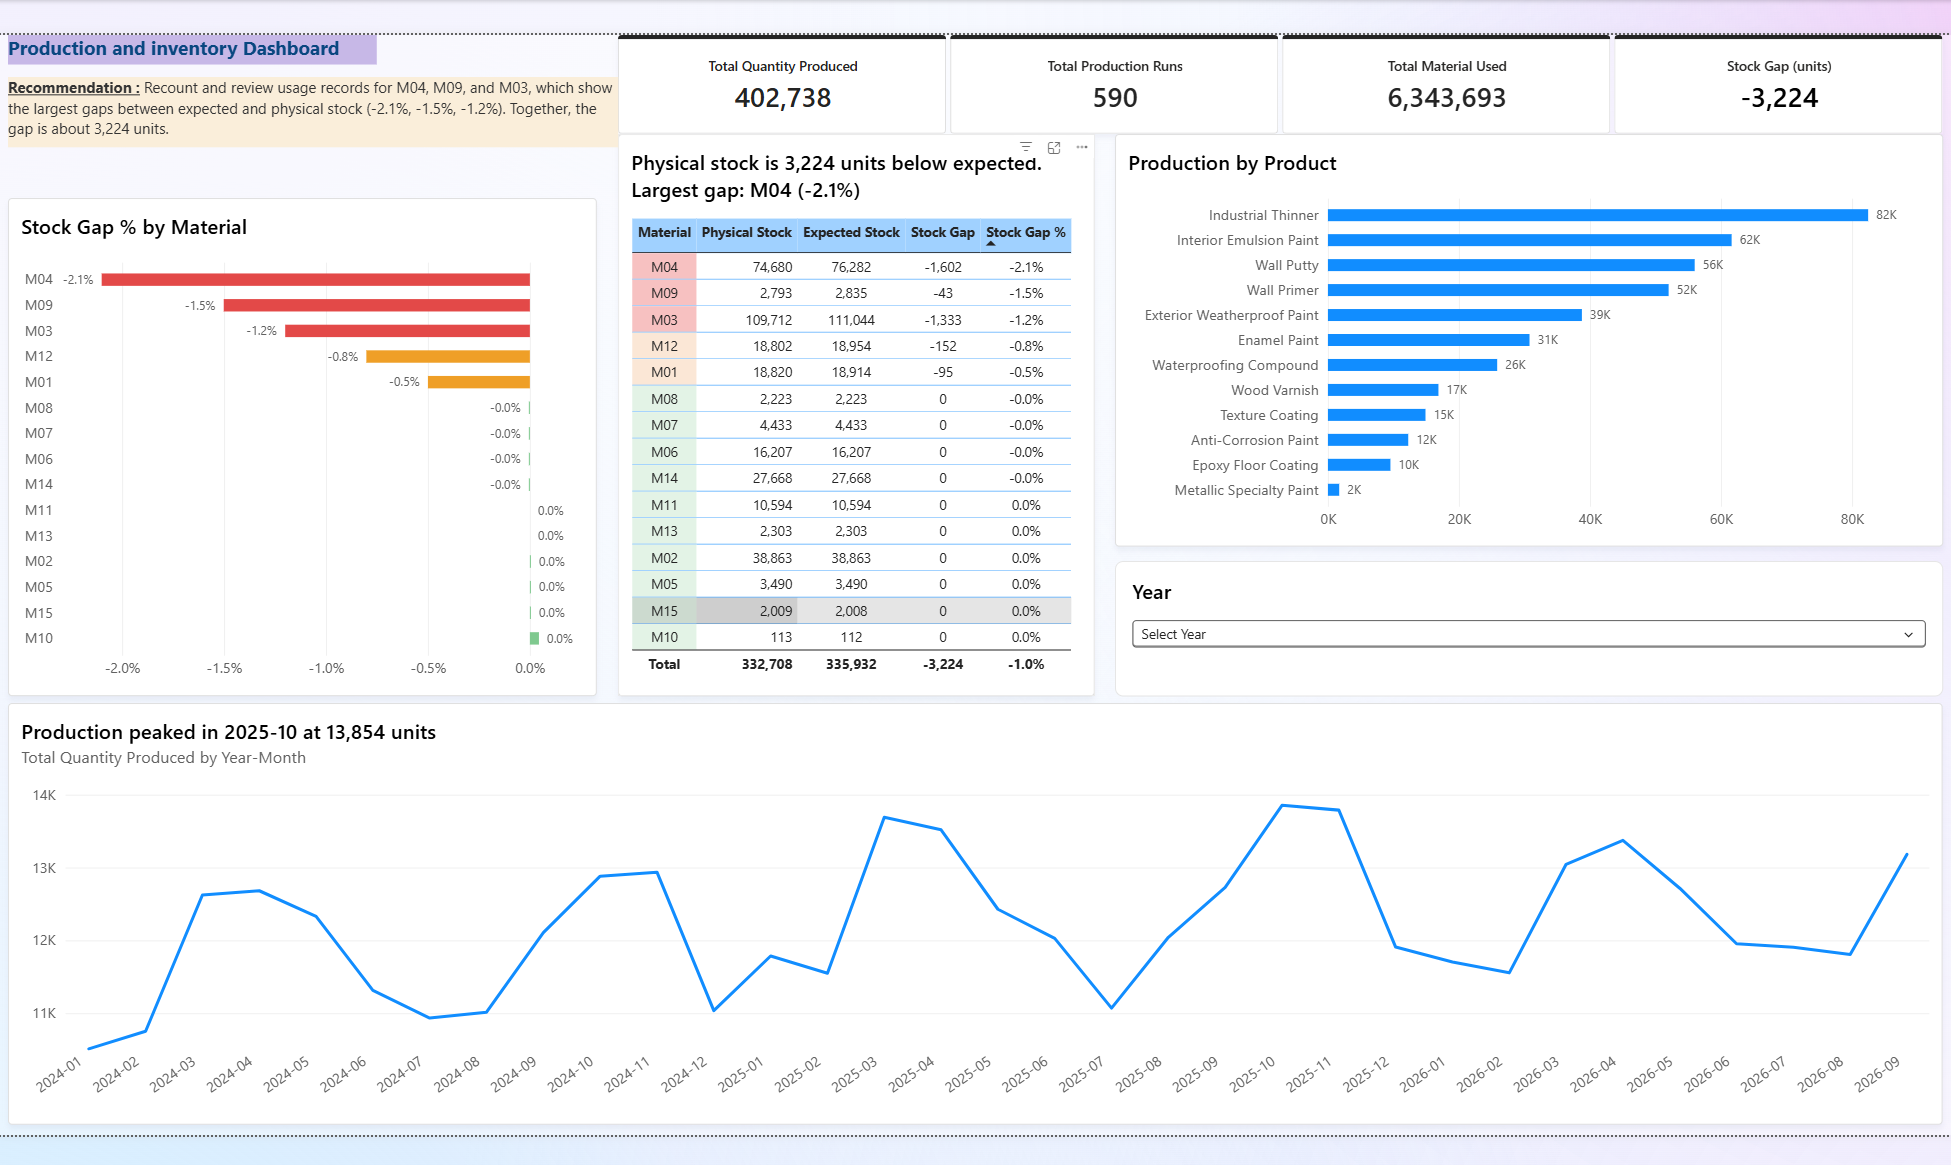

What the dashboard file says about the page in this screenshot:
{"tool":"powerbi","page":{"name":"Production and Inventory Overview","canvas":[1920,1080],"ordinal":1},"visuals":[{"type":"cardVisual","fields":{"Data":["production_runs.Total Production","production_runs.Total Production Runs","material_usage.Total Material Used","stock_count.Stock Gap"]},"box":[608.6,0,1300.6,97.2],"z":0},{"type":"clusteredBarChart","title":" Production by Product","fields":{"Category":["products.product_name"],"Y":["production_runs.Total Production"]},"box":[1096.4,97.2,812.8,405.4],"z":1000},{"type":"tableEx","fields":{"Values":["raw_materials.material_id","Sum(stock_count.physical_qty)","stock_count.Expected Stock","stock_count.Stock Gap","stock_count.Stock Gap %"]},"box":[608.6,97.2,468.2,551.7],"z":2000},{"type":"clusteredBarChart","title":"Stock Gap % by Material","fields":{"Category":["raw_materials.material_id"],"Y":["stock_count.Stock Gap %"]},"box":[9.8,160,578.2,488.8],"z":3000},{"type":"lineChart","fields":{"Category":["DateTable.Year-Month"],"Y":["production_runs.Total Production"]},"box":[9.8,655.7,1899.4,414.2],"z":4000},{"type":"listSlicer","title":"Year","fields":{"Values":["DateTable.Year"]},"box":[1096.4,516.3,812.8,132.5],"z":5000},{"type":"textbox","box":[9.8,0,362.2,29.4],"z":6000},{"type":"textbox","box":[9.8,41.2,598.8,68.7],"z":7000}]}

Visuals, with their boxes on the page's 1920x1080 design canvas (x1, y1, x2, y2). These are canvas units, not pixel positions in the 1951x1165 screenshot, which may show the page scaled, cropped or inside an application window:
cardVisual - production_runs.Total Production x production_runs.Total Production Runs: (left=609, top=0, right=1909, bottom=97)
" Production by Product" clusteredBarChart: (left=1096, top=97, right=1909, bottom=503)
tableEx - raw_materials.material_id x Sum(stock_count.physical_qty): (left=609, top=97, right=1077, bottom=649)
"Stock Gap % by Material" clusteredBarChart: (left=10, top=160, right=588, bottom=649)
lineChart - DateTable.Year-Month x production_runs.Total Production: (left=10, top=656, right=1909, bottom=1070)
"Year" listSlicer: (left=1096, top=516, right=1909, bottom=649)
textbox: (left=10, top=0, right=372, bottom=29)
textbox: (left=10, top=41, right=609, bottom=110)
